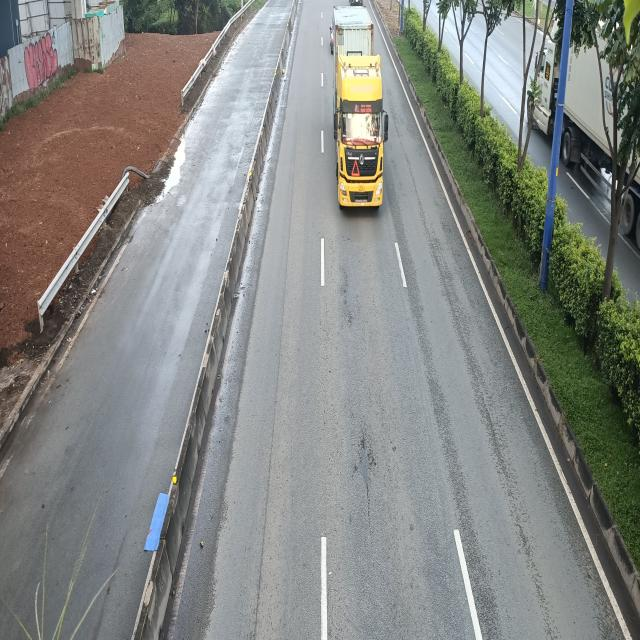container: (331, 8, 390, 210)
